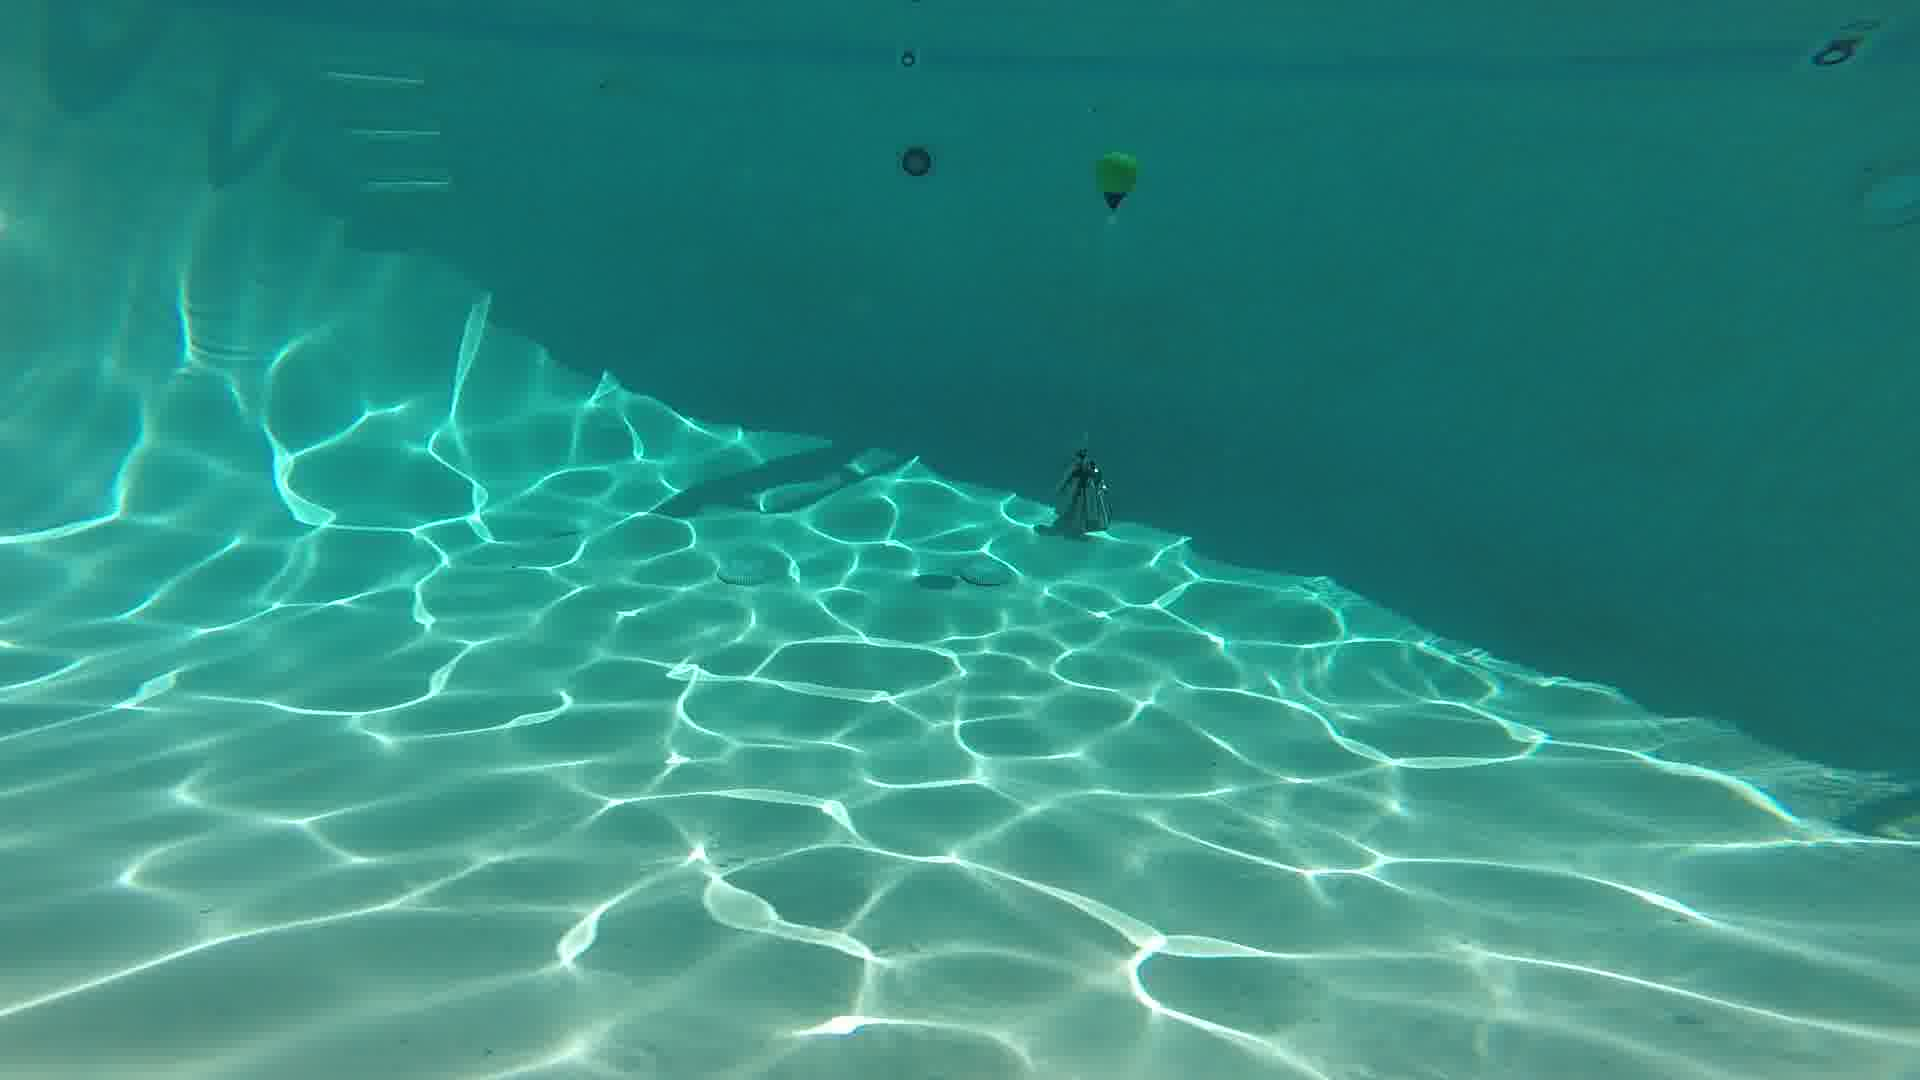yellow_buoy: (1098, 154, 1134, 208)
